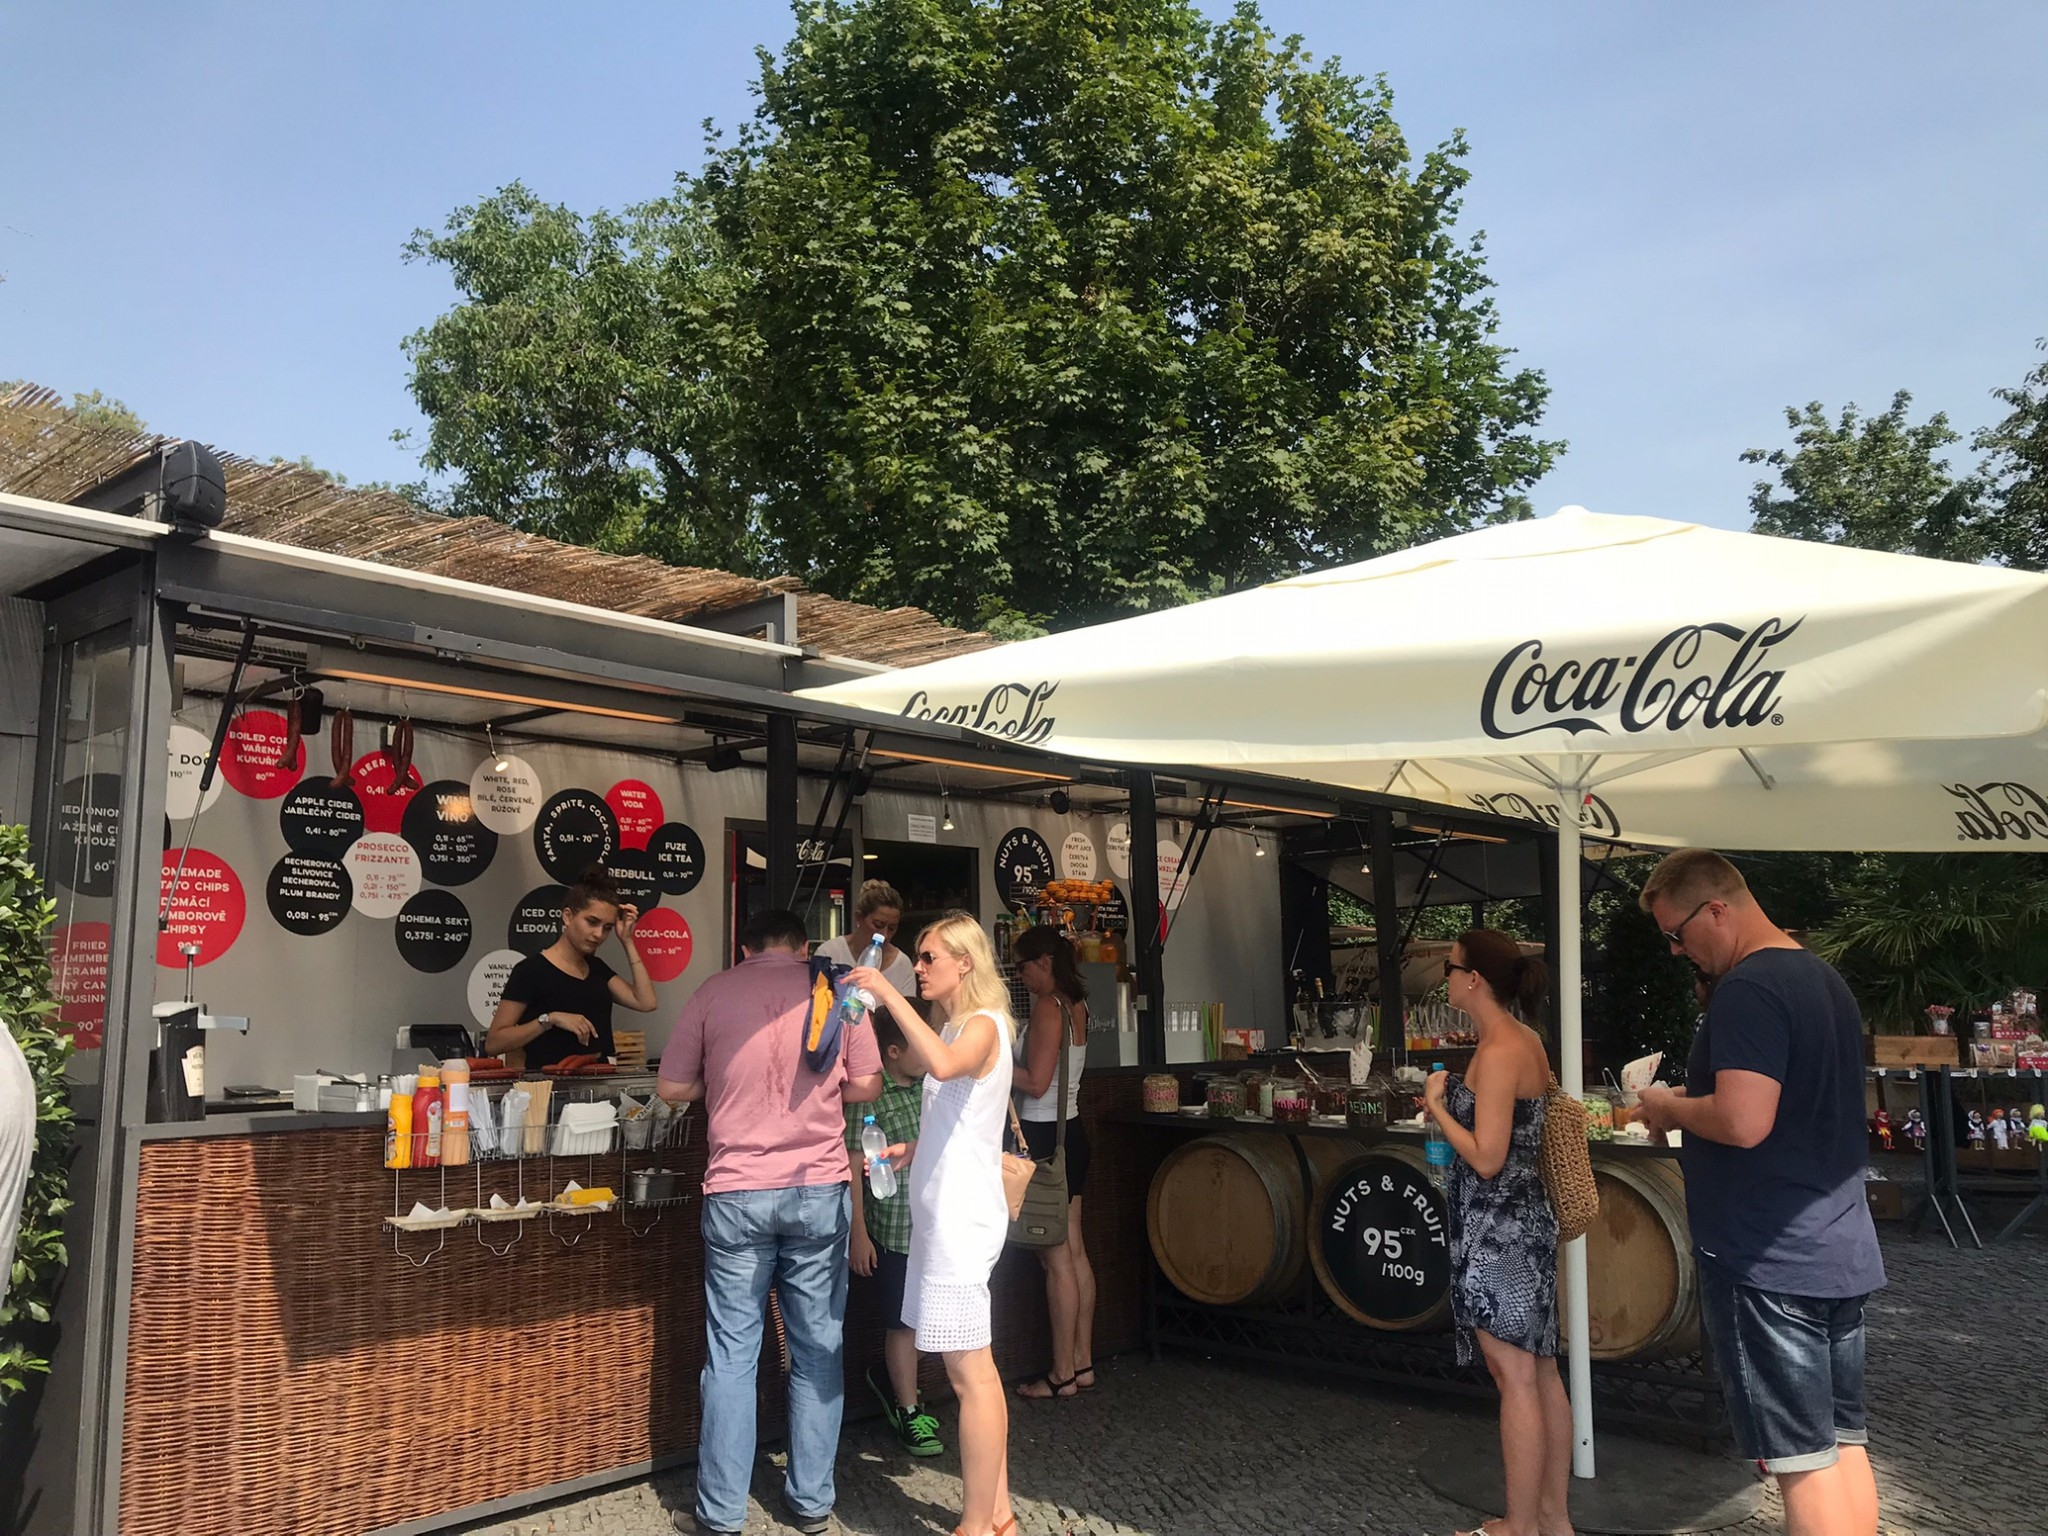people: (1643, 840, 1907, 1536), (1422, 919, 1584, 1536), (704, 902, 849, 1534), (902, 913, 1025, 1536), (1025, 922, 1125, 1416), (513, 884, 654, 1060), (846, 878, 922, 1063)
